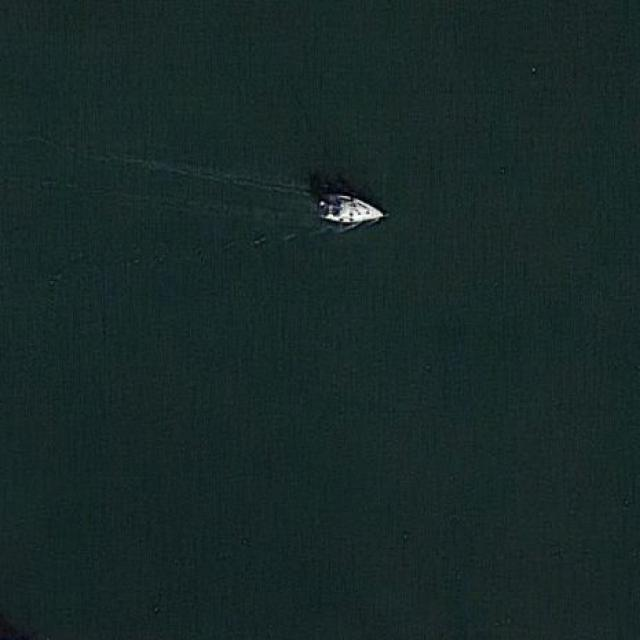ship: (314, 190, 391, 228)
